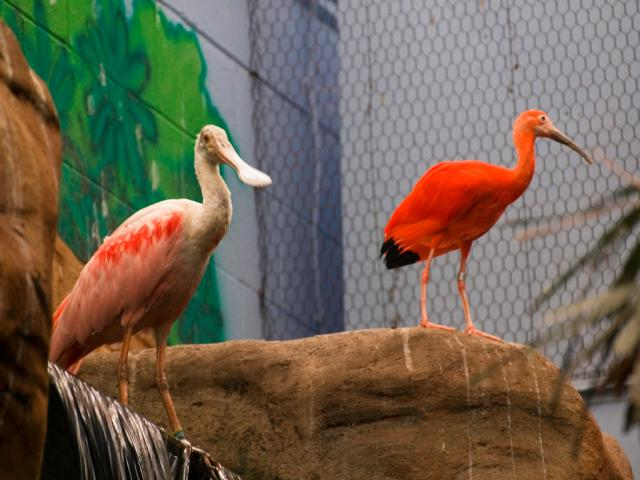Bird: (48, 124, 270, 460), (381, 106, 594, 344)
